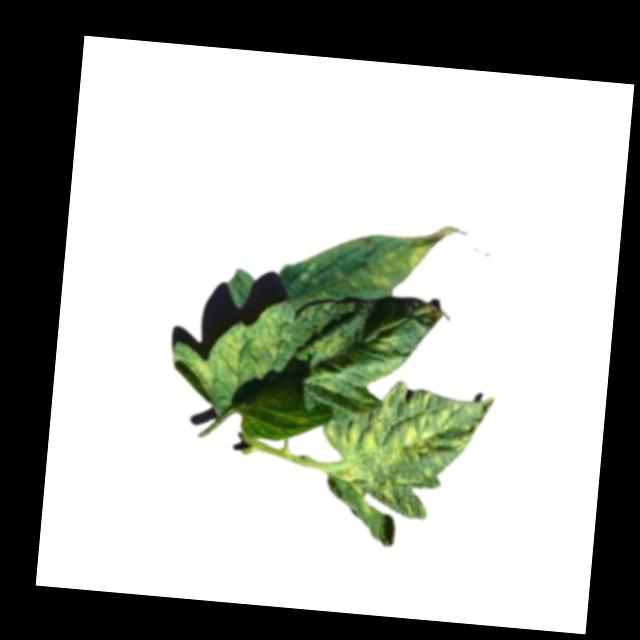Leaf_Mold: (314, 375, 496, 525), (170, 297, 282, 397), (359, 219, 463, 297)
